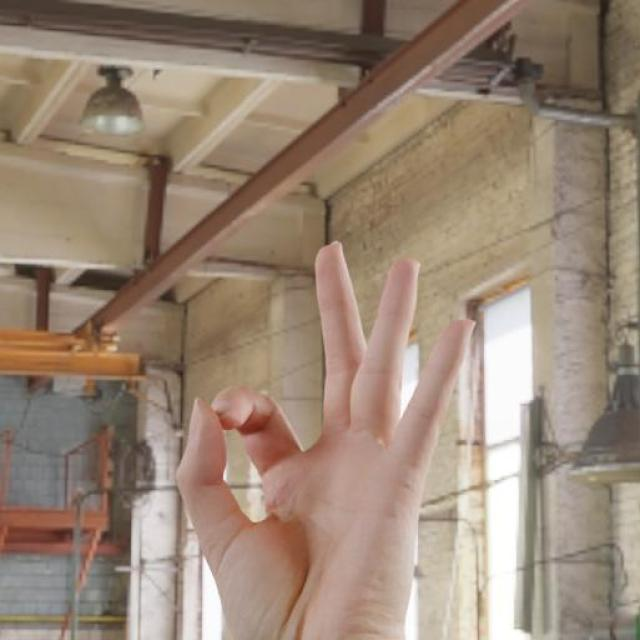F: (164, 217, 492, 640)
